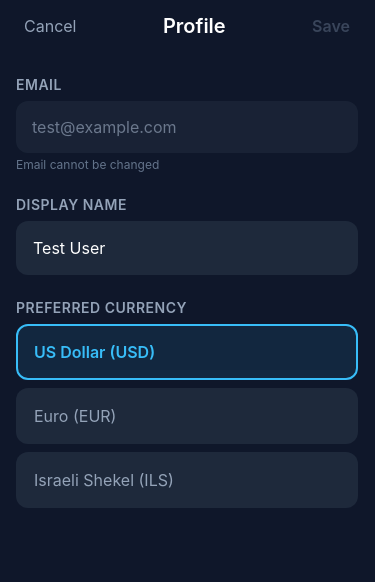
Test: ProfileScreen › Error Handling › shows error message when updateProfile fails
Replace the text in the field with test id "profile.displayNameInput" with "New Name" at x=187, y=248, box [16,221,358,275]
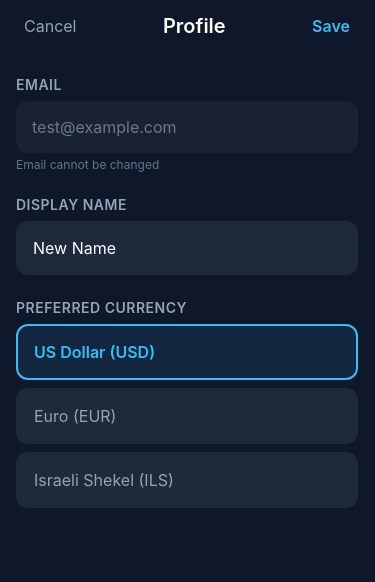
Click the element with test id "profile.saveButton".
click(331, 26)  # box [312,16,350,36]
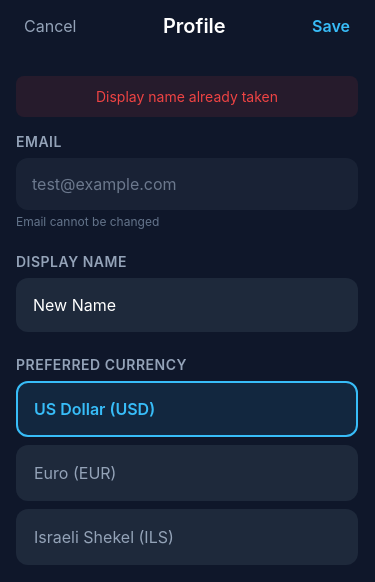
Expected: the element with test id "profile.errorMessage" is shown, [16,76,358,117]
Expected: the text "Display name already taken" is shown, [96,88,278,105]
